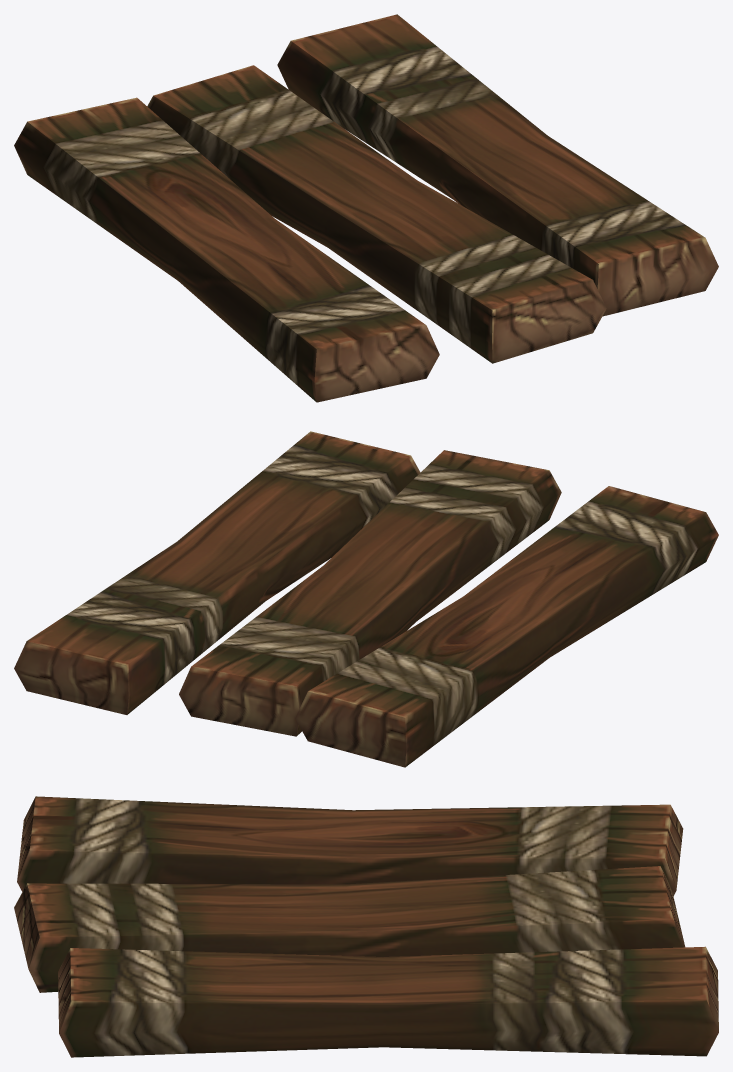
The model's file is rope_bridge_module04.fbx.
3 renders of one model, top to bottom at view 1: azimuth 30°, elevation 25°; view 2: azimuth 150°, elevation 25°; view 3: azimuth 270°, elevation 25°, orthographic. The views are drawn at different scales.
Visible parts, largest first — view 1: rope_bridge_module04; view 2: rope_bridge_module04; view 3: rope_bridge_module04.
Part boxes in pixels (x1,y1,x2,y2): rope_bridge_module04: [14, 14, 718, 402]; rope_bridge_module04: [14, 431, 718, 767]; rope_bridge_module04: [14, 796, 718, 1057].
Bounding box in the file's own units: 101 × 12.17 × 140.
